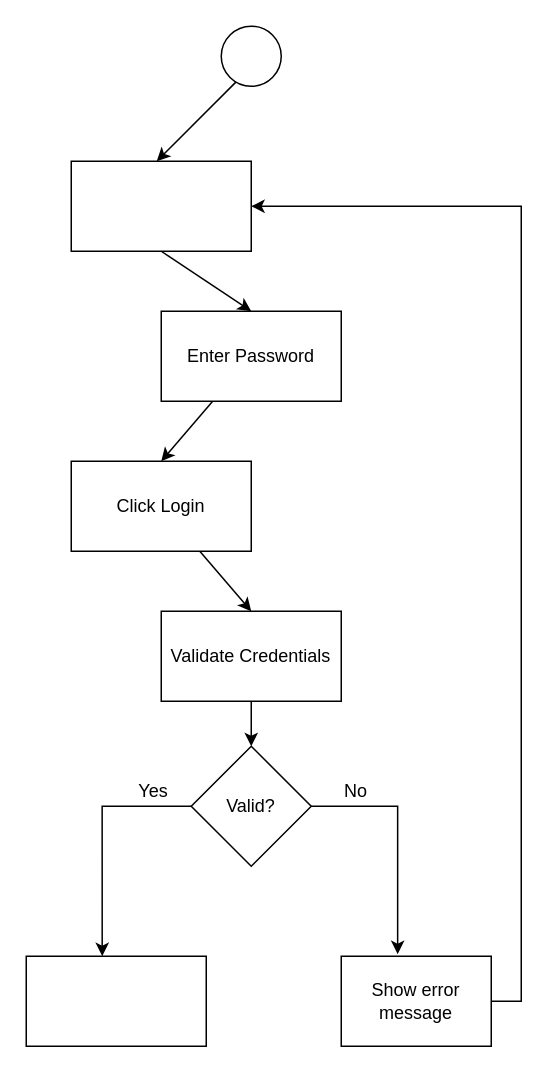
This 560x1073 diagram has some shape labels left out. Each missing label, with the centre of its shape:
"Display Login Screen" goes at point 160,205.
"Open Dashboard" goes at point 115,1000.
